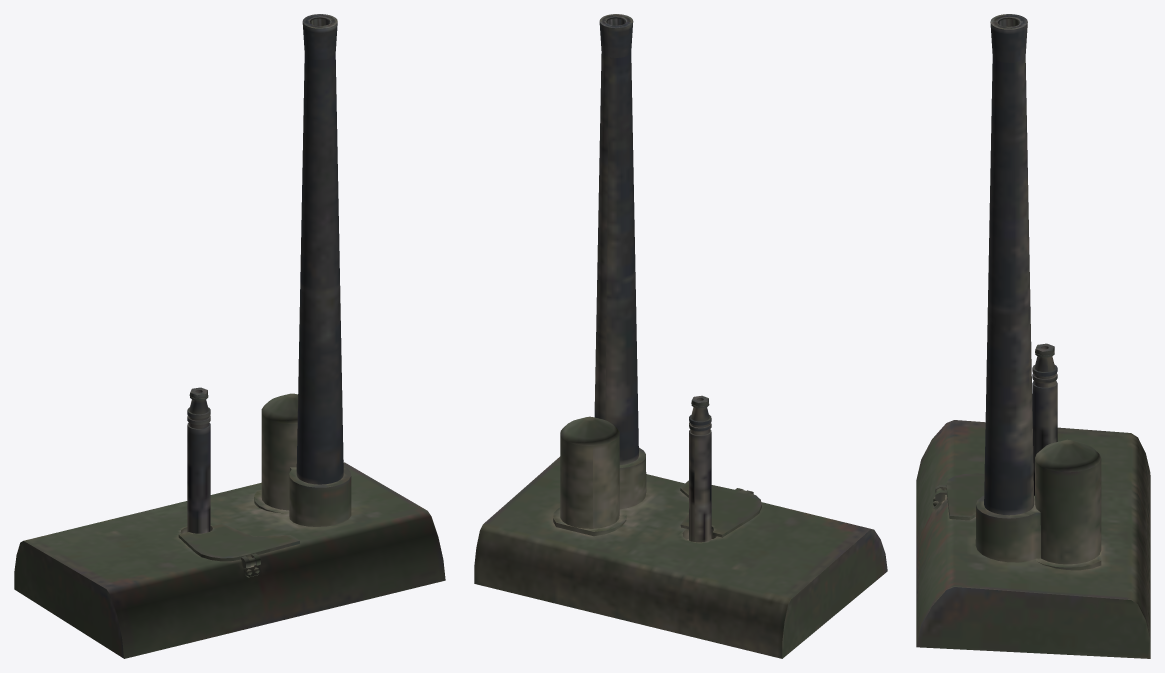
File: Gun_03.glb
3 views of the same model, side by side, from view 1: azimuth 30°, elevation 25°; view 2: azimuth 150°, elevation 25°; view 3: azimuth 270°, elevation 25° (orthographic). The views are drawn at different scales.
Parts seen in each view (by area): view 1: set_0_group_0; view 2: set_0_group_0; view 3: set_0_group_0.
Part boxes in pixels (x1=…): set_0_group_0: x1=14, y1=14, x2=445, y2=658; set_0_group_0: x1=474, y1=14, x2=887, y2=658; set_0_group_0: x1=916, y1=14, x2=1150, y2=658.
Bounding box in the file's own units: 0.7231 × 1.2 × 0.4287.
1 material, 1 textured.
